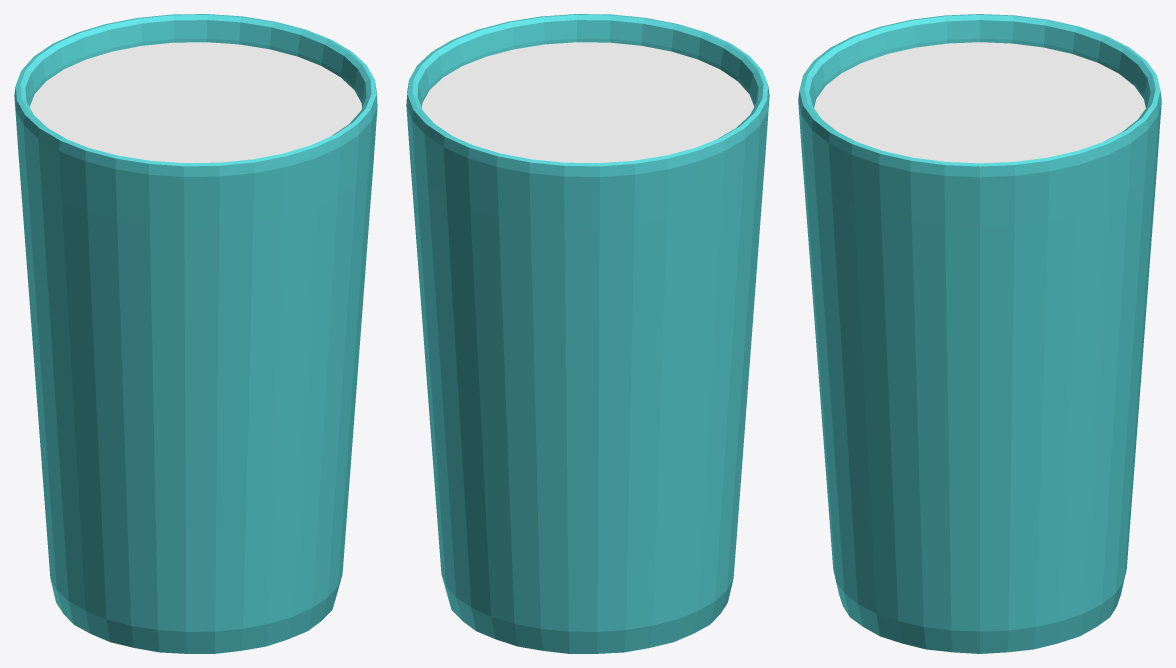
File: Milk_Glass.fbx
The picture shows the model from 3 angles, left to right: view 1: azimuth 30°, elevation 25°; view 2: azimuth 150°, elevation 25°; view 3: azimuth 270°, elevation 25°; orthographic projection.
Parts seen in each view (by area): view 1: Cylinder, Cylinder.001; view 2: Cylinder, Cylinder.001; view 3: Cylinder, Cylinder.001.
Part boxes in pixels (bbox=[...]): Cylinder: bbox=[14, 14, 377, 653]; Cylinder.001: bbox=[30, 42, 361, 163]; Cylinder: bbox=[406, 14, 769, 653]; Cylinder.001: bbox=[422, 42, 753, 163]; Cylinder: bbox=[798, 14, 1161, 653]; Cylinder.001: bbox=[814, 42, 1145, 163].
Size of the model in its own units: 245 by 378 by 245.
